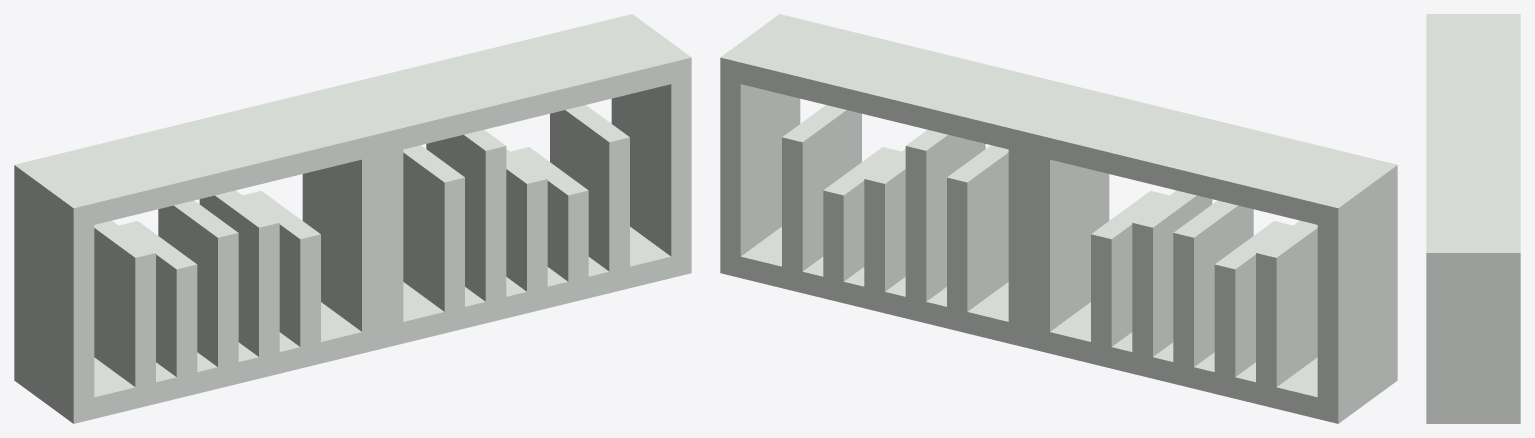
The model's file is bookshelf2.obj.
3 views of the same model, side by side, from view 1: azimuth 30°, elevation 25°; view 2: azimuth 150°, elevation 25°; view 3: azimuth 270°, elevation 25° (orthographic). The views are drawn at different scales.
Bounding box in the file's own units: 3 × 1 × 0.5.
1 material, 1 textured.
